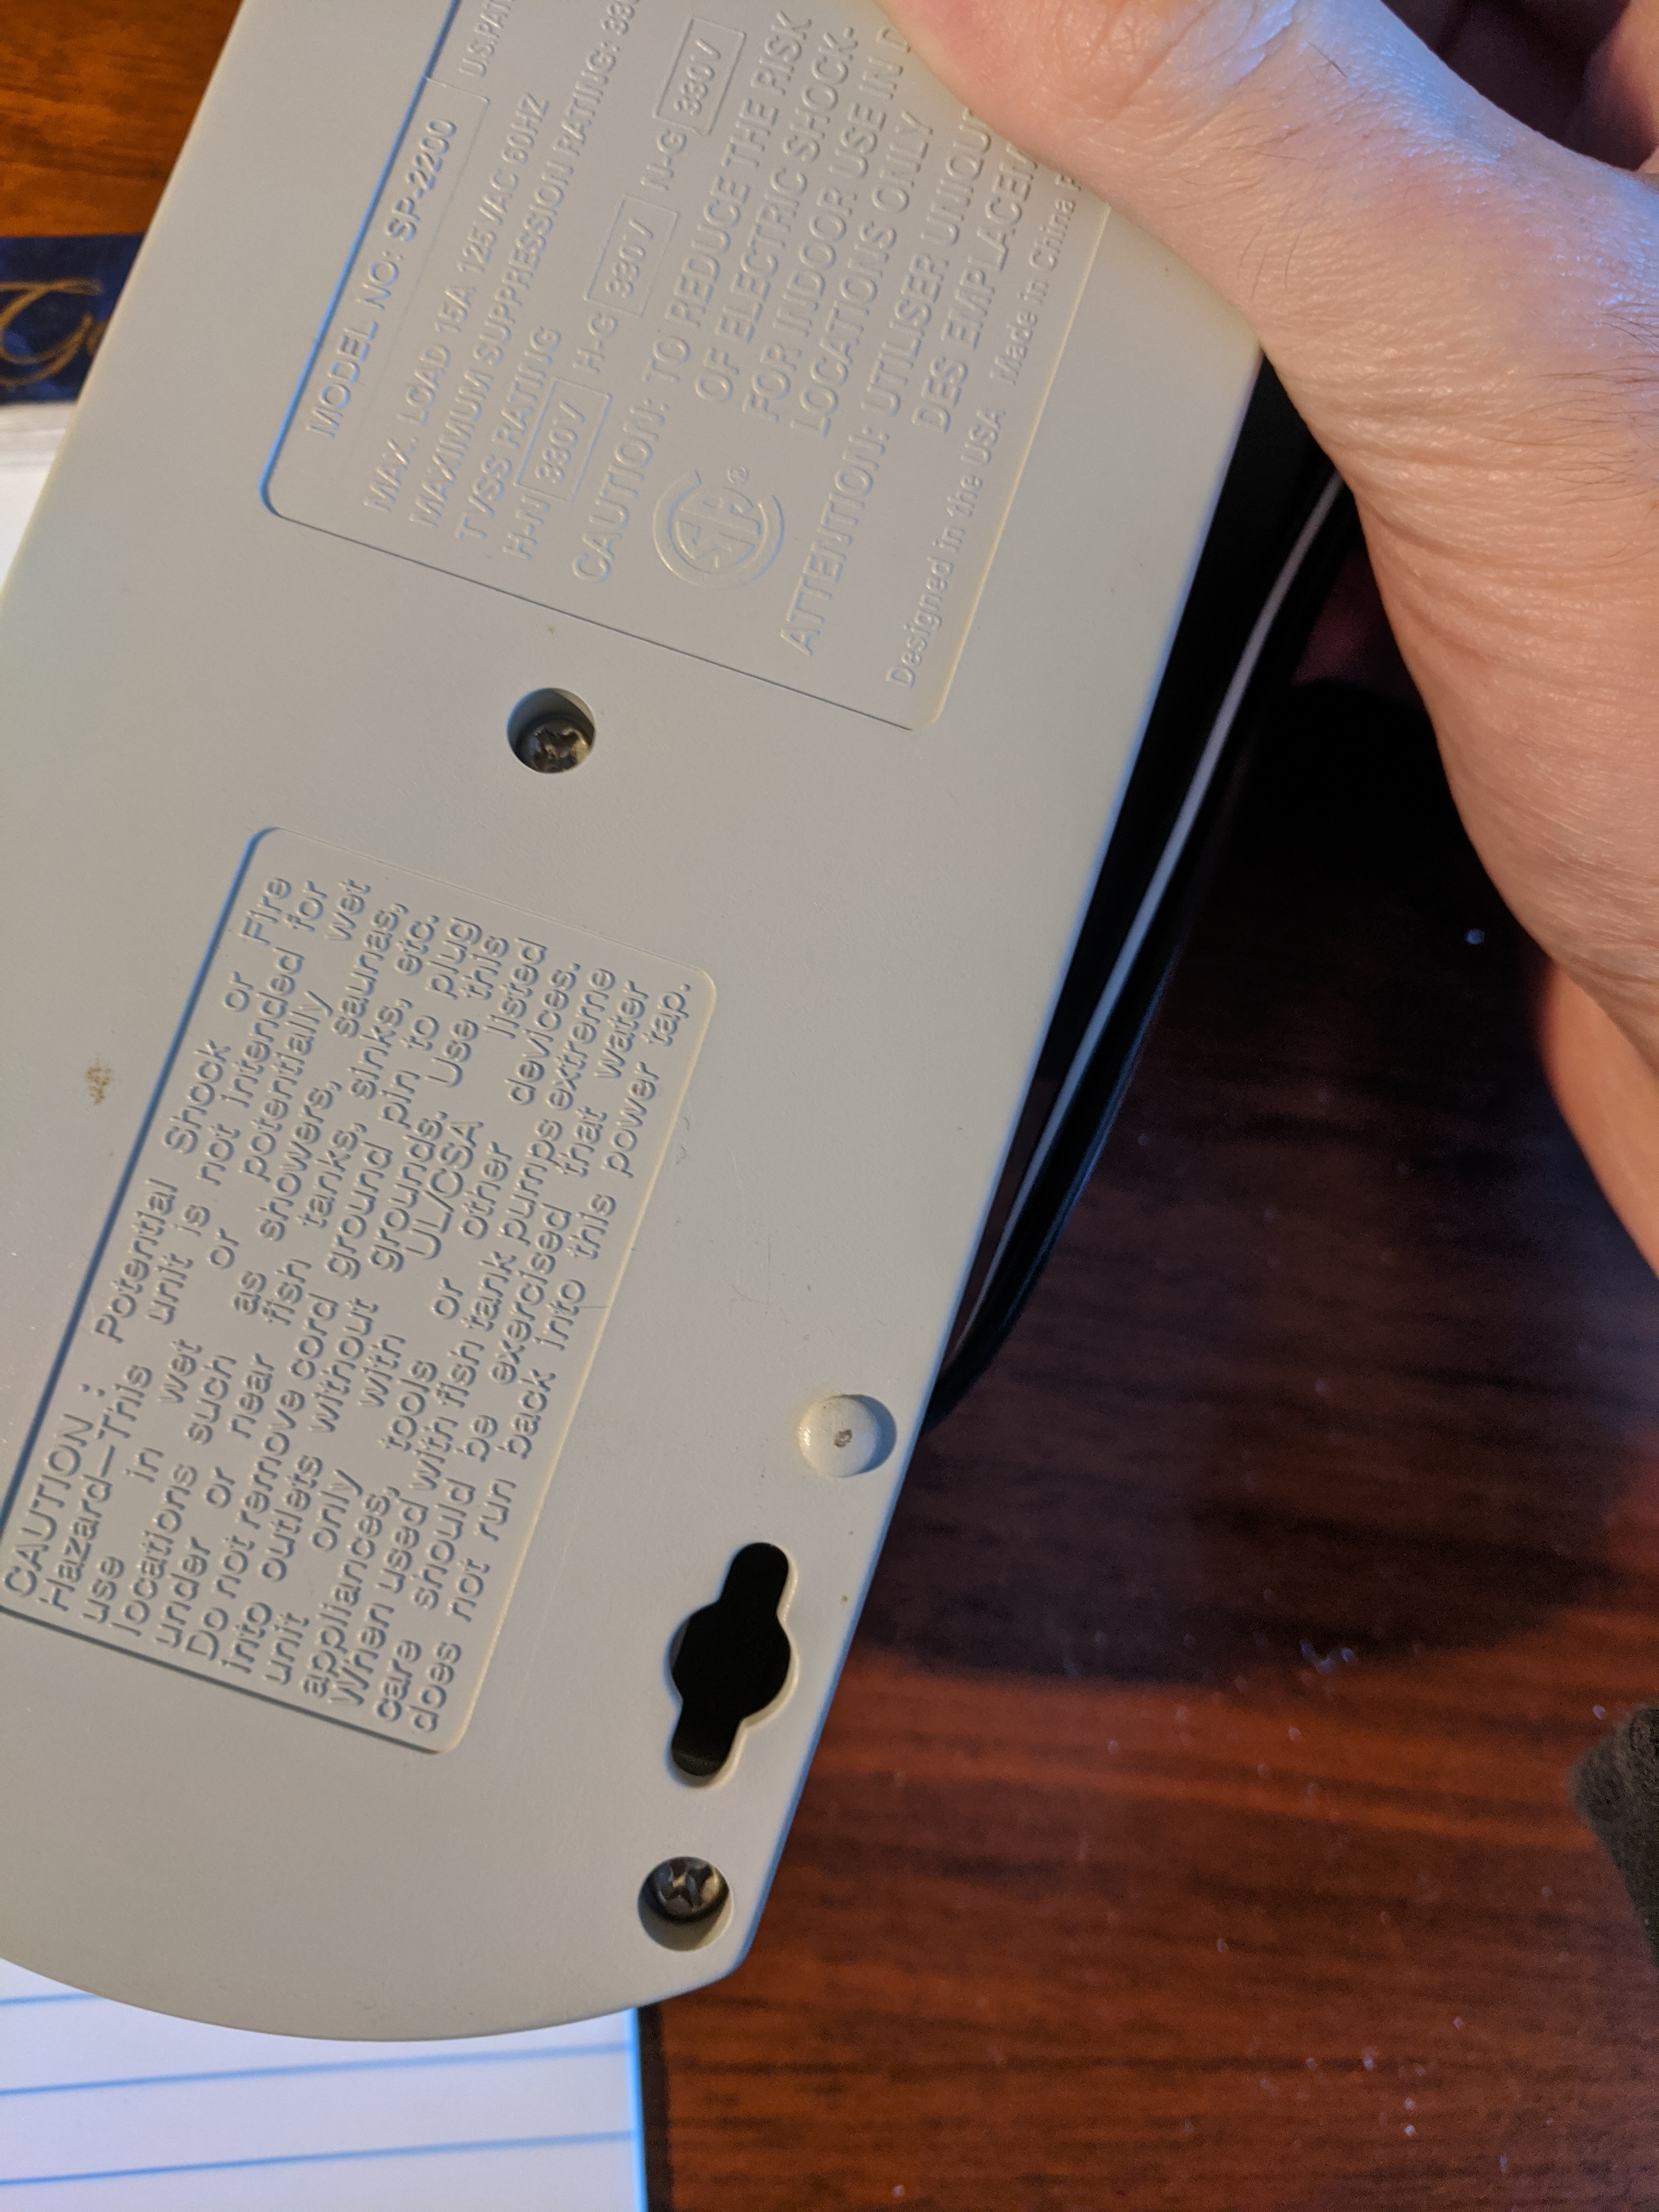cross_recessed_screw: (641, 1850, 730, 1944), (505, 693, 596, 779)
